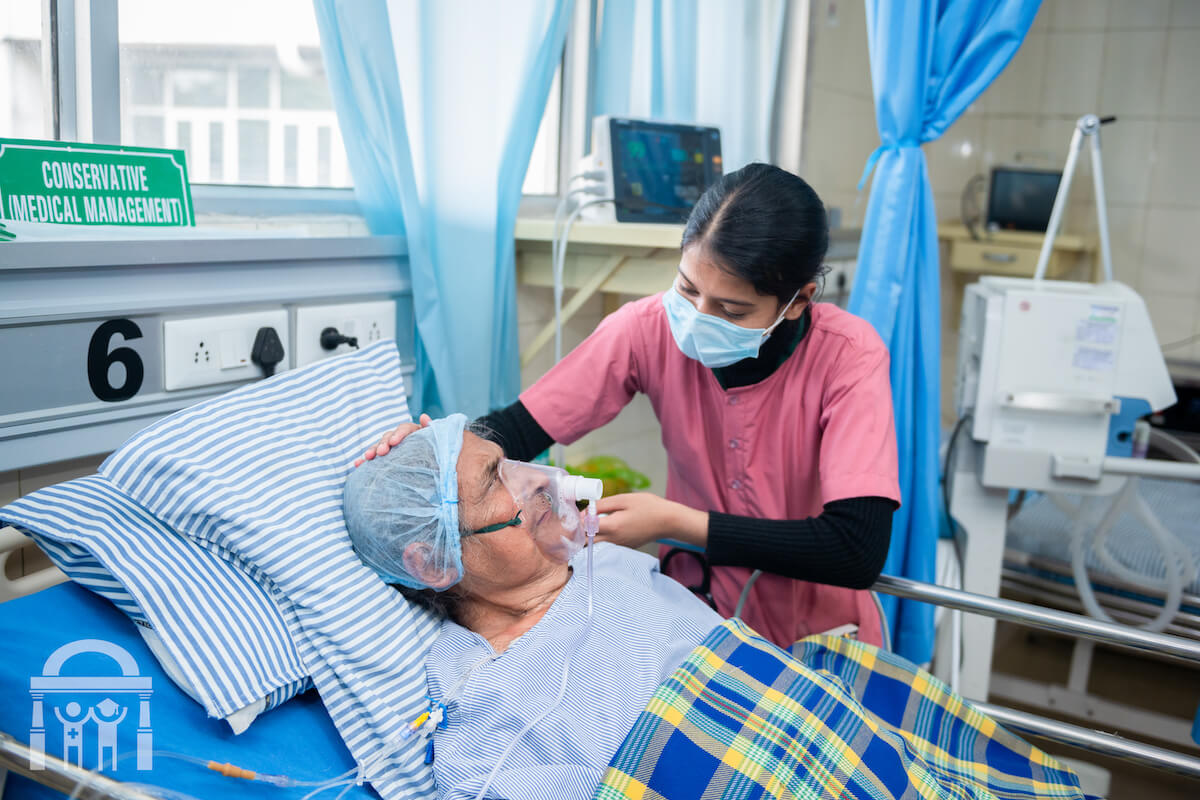Nurse: (658, 162, 842, 463)
patient: (350, 411, 625, 694)
